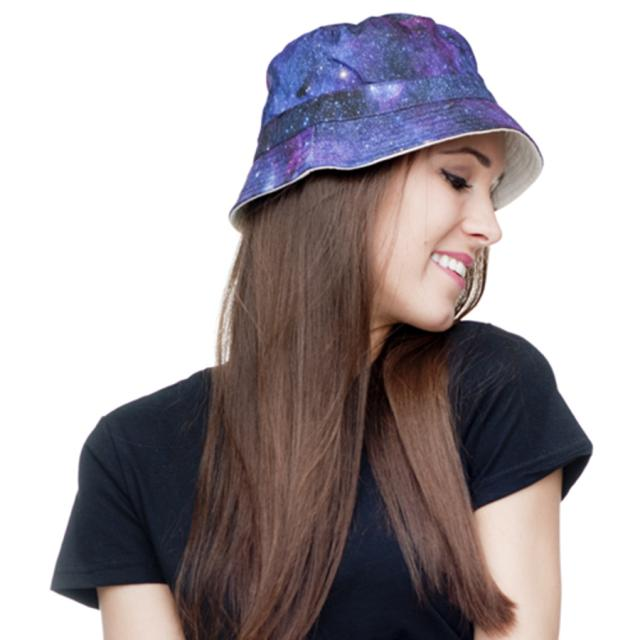hat: (236, 21, 546, 332)
